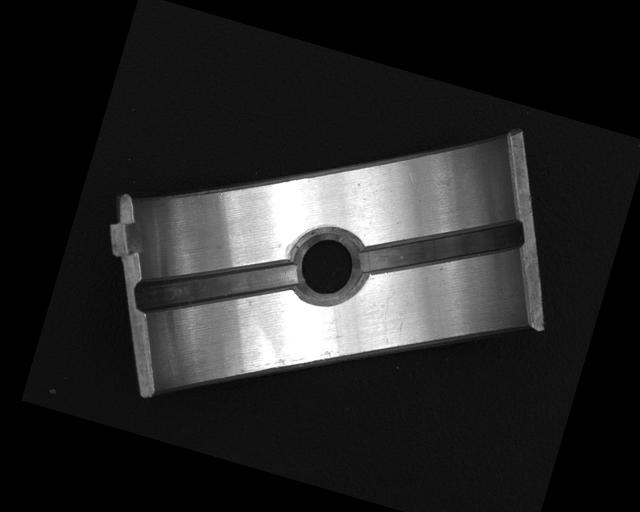gap: (356, 181, 528, 315), (132, 223, 301, 351)
hole: (285, 218, 370, 315)
